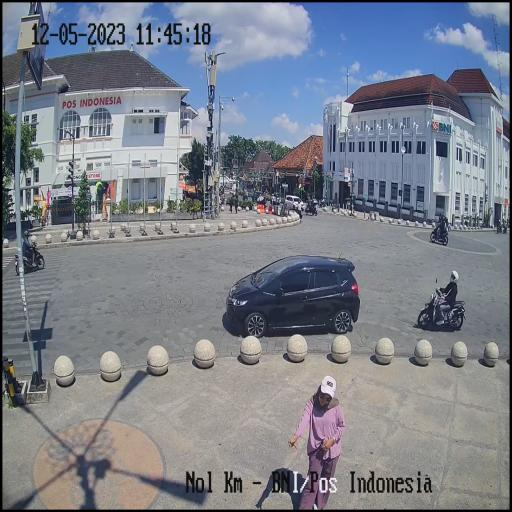mobil: (226, 249, 360, 338)
motor: (416, 278, 467, 333)
